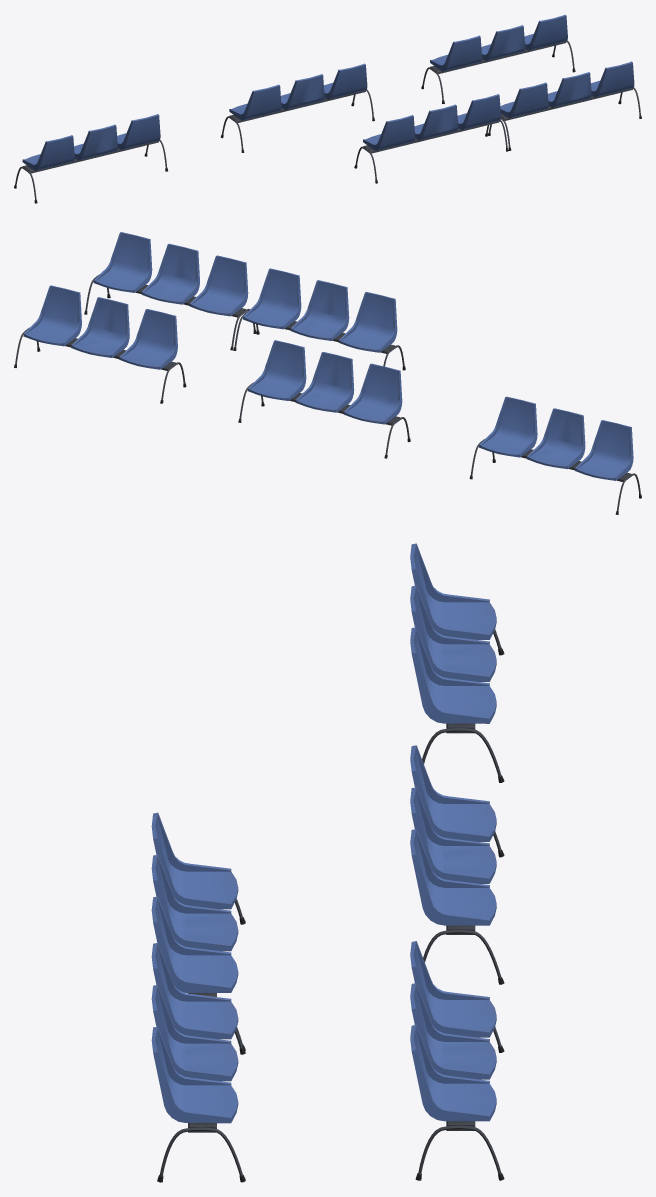
File: 4 benches.fbx
3 views of the same model, one above another, from view 1: azimuth 30°, elevation 25°; view 2: azimuth 150°, elevation 25°; view 3: azimuth 270°, elevation 25° (orthographic). The views are drawn at different scales.
Parts seen in each view (by area): view 1: plastticBench_low.017, plastticBench_low.016, plastticBench_low.011, plastticBench_low.013, plastticBench_low.012; view 2: plastticBench_low.017, plastticBench_low.013, plastticBench_low.016, plastticBench_low.012, plastticBench_low.011; view 3: plastticBench_low.012, plastticBench_low.013, plastticBench_low.017, plastticBench_low.016, plastticBench_low.011.
Boxes of the visible parts, x1,y1,x2,y2 form: plastticBench_low.017: (14,114,167,203); plastticBench_low.016: (220,63,374,152); plastticBench_low.011: (354,94,508,183); plastticBench_low.013: (421,14,575,103); plastticBench_low.012: (488,61,641,150); plastticBench_low.017: (469,396,641,514); plastticBench_low.013: (14,285,186,403); plastticBench_low.016: (238,340,410,458); plastticBench_low.012: (84,232,256,350); plastticBench_low.011: (233,268,405,370); plastticBench_low.012: (151,943,245,1182); plastticBench_low.013: (410,941,504,1180); plastticBench_low.017: (410,543,504,782); plastticBench_low.016: (410,745,504,984); plastticBench_low.011: (151,812,245,1050).
Size of the model in its own units: 12.55 by 1.33 by 3.53.
